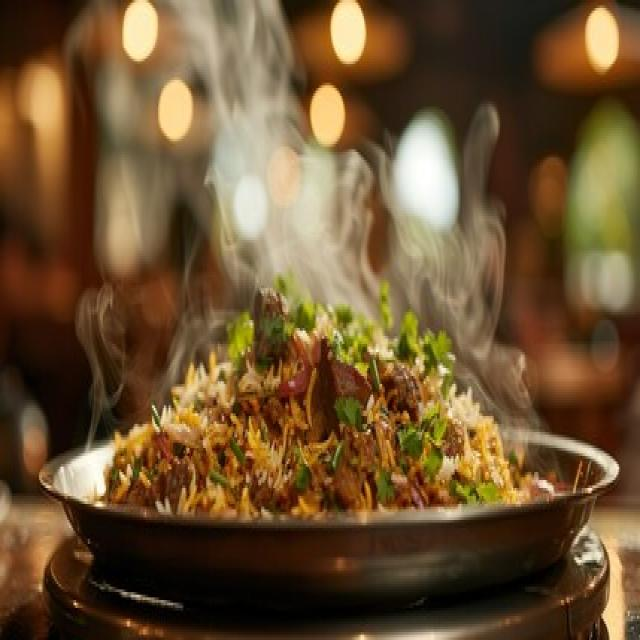BIRIYANI: (118, 298, 552, 504)
